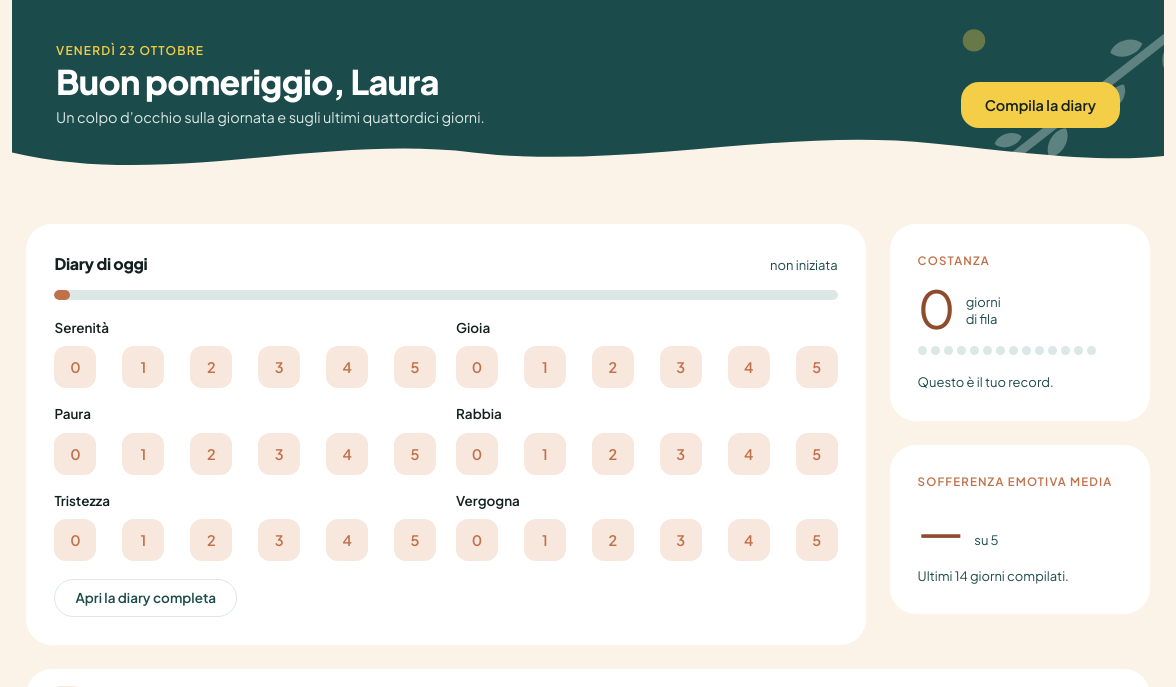
Test: PaginaHome › schermo largo (desktop) › toccando una cella la diary di oggi si salva subito
Click the button "3" below "Serenità": [279, 367] box 258,346 -> 300,388
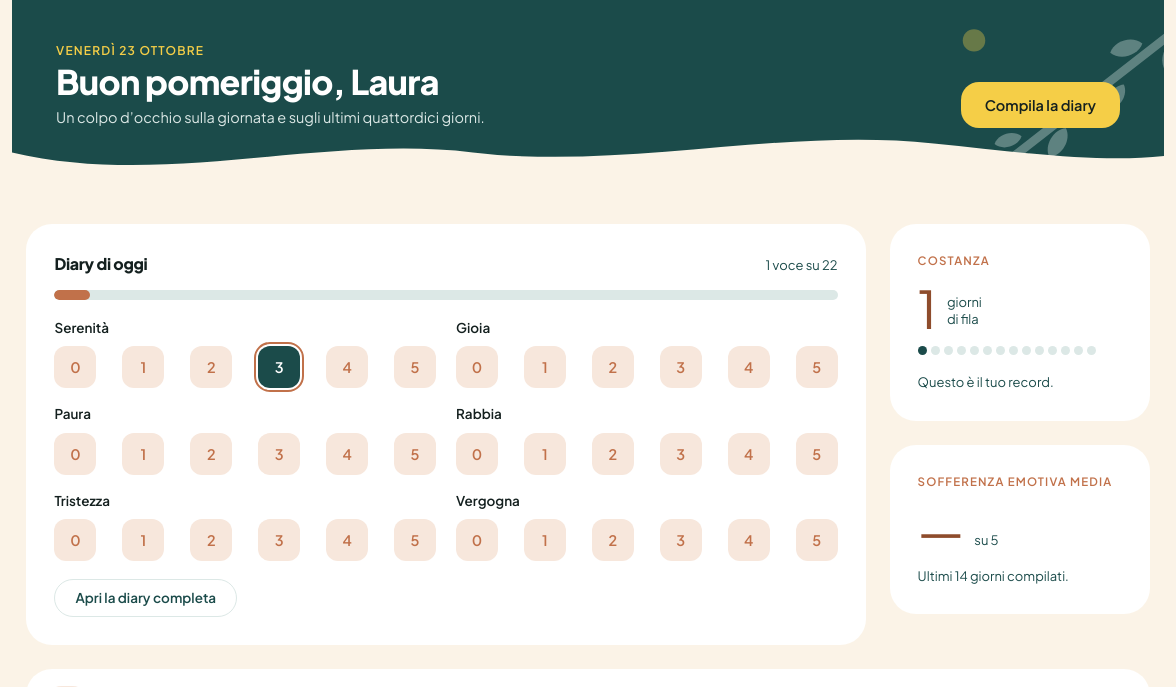
Expected: the text "1 voce su 22" is shown, 766,256 -> 838,276
